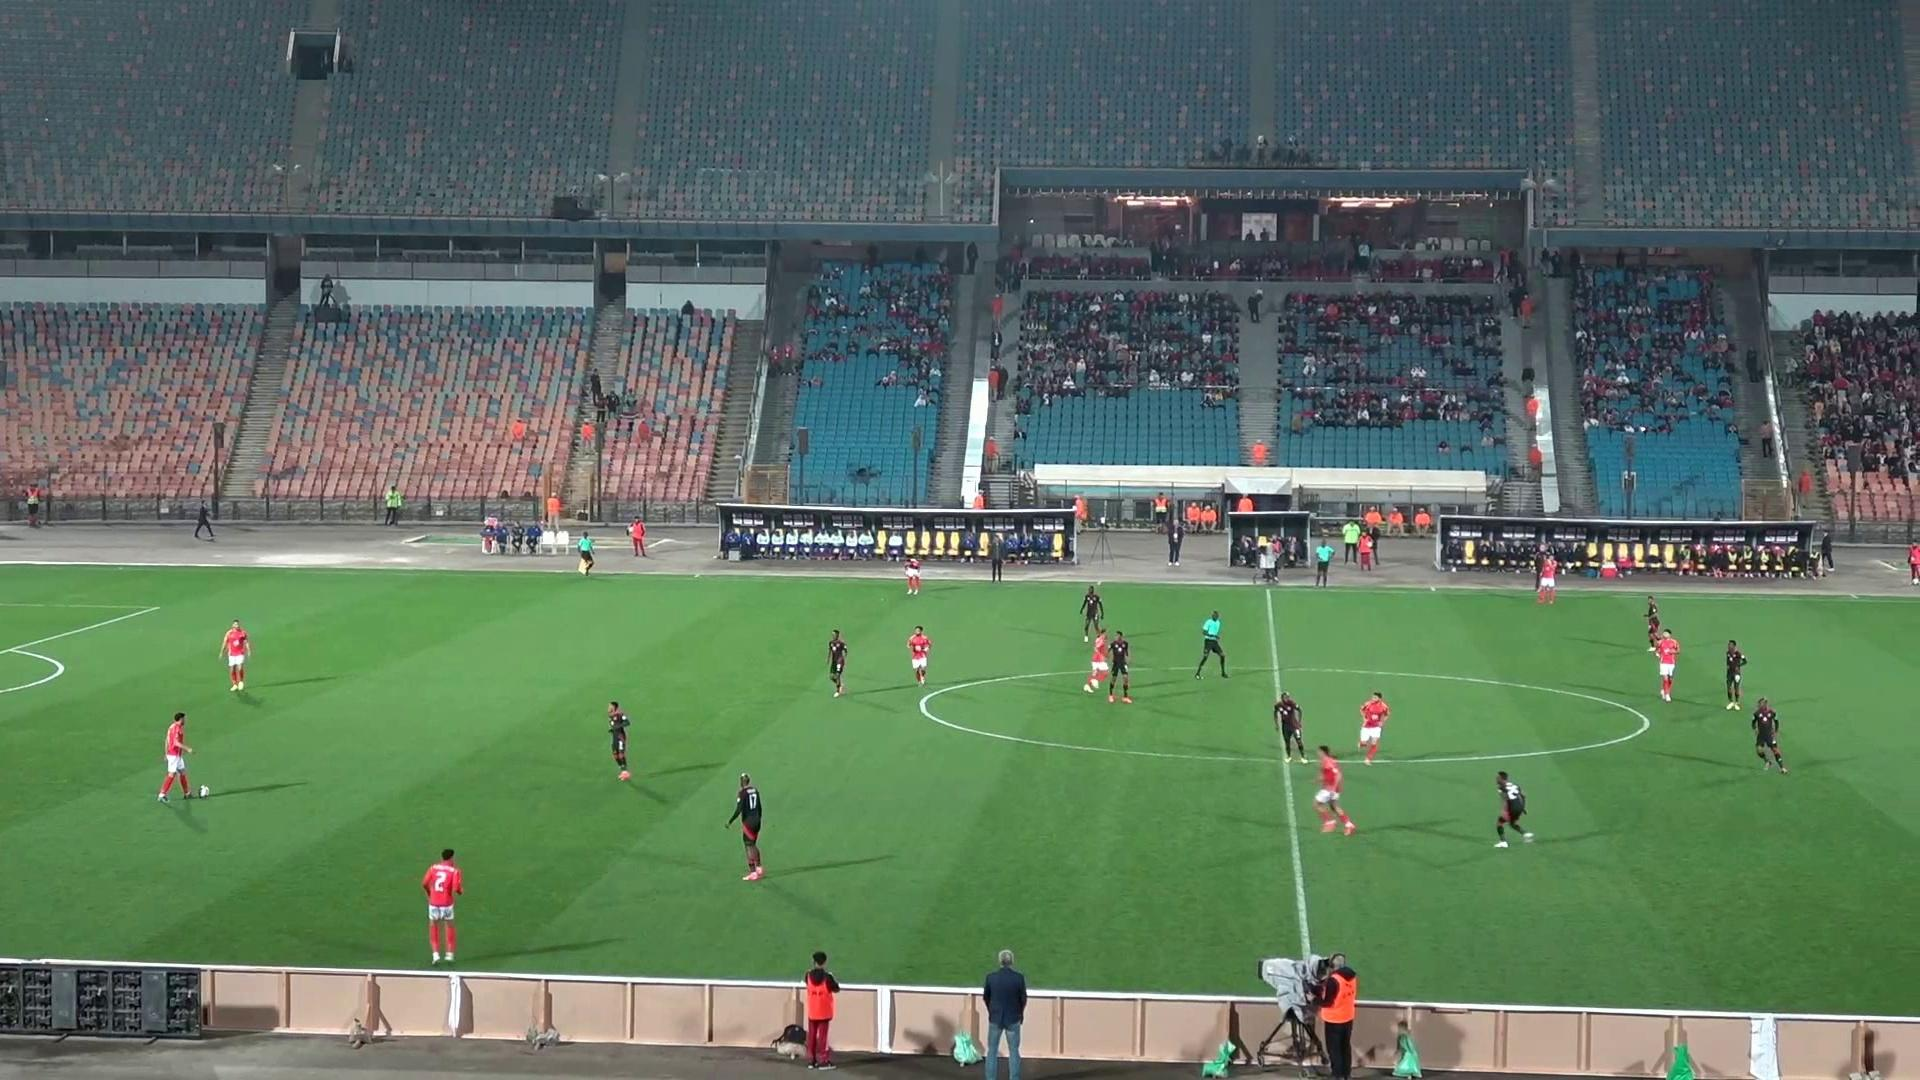Ball: (194, 785, 212, 799)
Refree: (1193, 611, 1226, 676), (1315, 538, 1335, 587), (578, 533, 593, 575)
Team1: (422, 849, 462, 963), (158, 712, 206, 800), (1313, 746, 1356, 833), (1358, 692, 1389, 765), (1652, 628, 1680, 702), (222, 620, 248, 691), (1083, 630, 1112, 694), (907, 626, 931, 686), (1536, 553, 1557, 603), (905, 555, 922, 596)
Team2: (728, 773, 764, 881), (1495, 771, 1534, 847), (1750, 698, 1785, 771), (1273, 692, 1305, 757), (608, 702, 632, 781), (1106, 632, 1131, 703), (1725, 640, 1747, 708), (1081, 584, 1104, 641), (828, 629, 847, 696), (1646, 596, 1668, 647), (911, 103, 948, 109)
